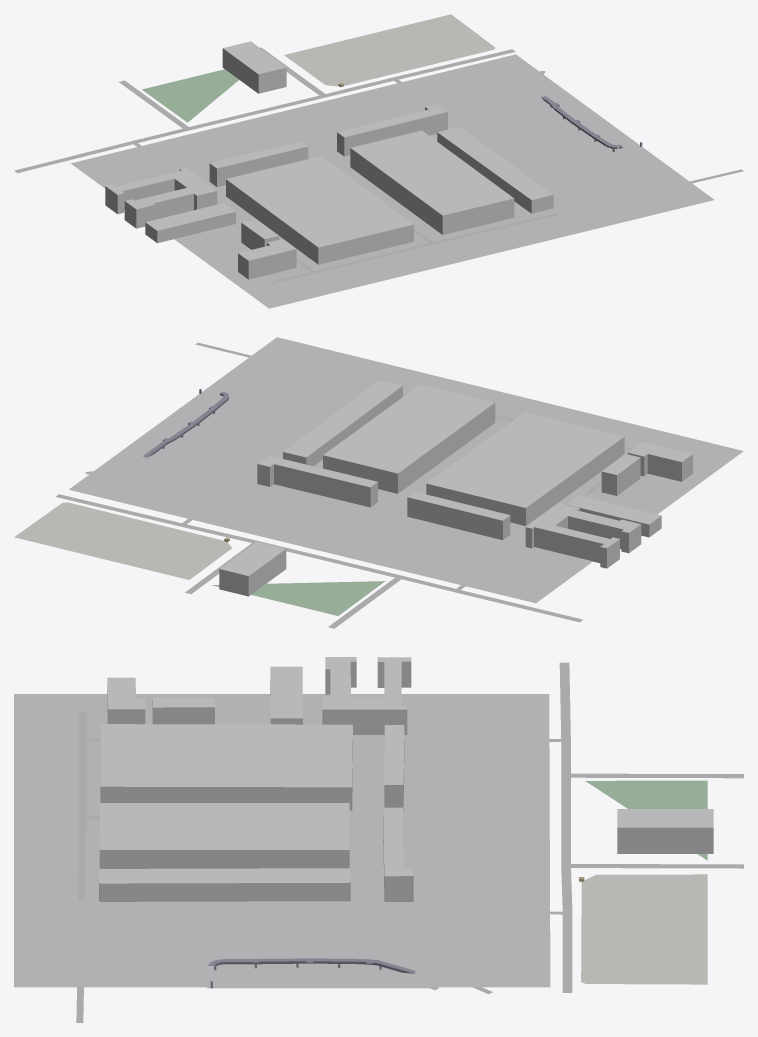
3 views of the same model, one above another, from view 1: azimuth 30°, elevation 25°; view 2: azimuth 150°, elevation 25°; view 3: azimuth 270°, elevation 25° (orthographic). The views are drawn at different scales.
Bounding box in the file's own units: 614 × 24.97 × 526.
